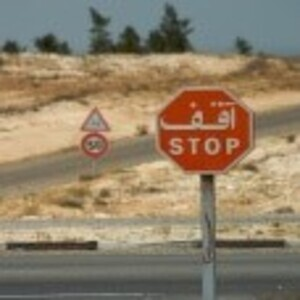stop: (158, 86, 255, 175)
